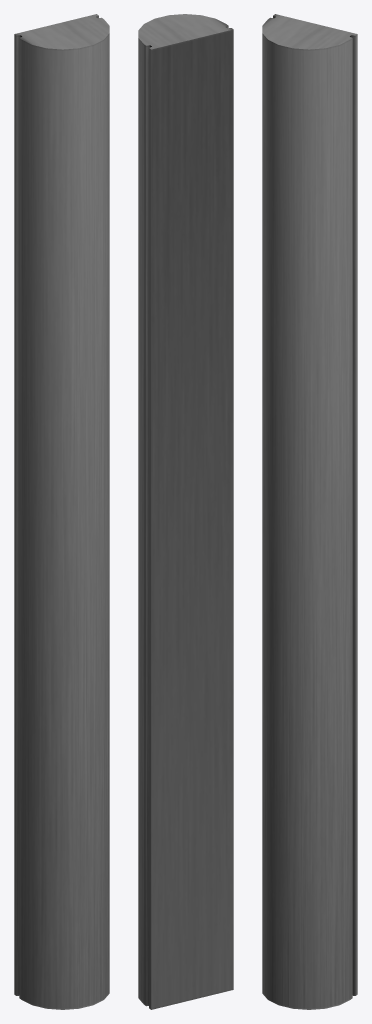
3 views of the same model, side by side, from view 1: azimuth 30°, elevation 25°; view 2: azimuth 210°, elevation 25°; view 3: azimuth 330°, elevation 25° (orthographic).
Visible parts, largest first — view 1: EP_BB; view 2: EP_BB; view 3: EP_BB.
Boxes of the visible parts, x1,y1,x2,y2 form: EP_BB: (14,14,109,1009); EP_BB: (138,14,233,1009); EP_BB: (262,14,357,1009).
Size of the model in its own units: 0.4047 by 4.5 by 0.2618.
Materials: 1 (1 with a texture image).
